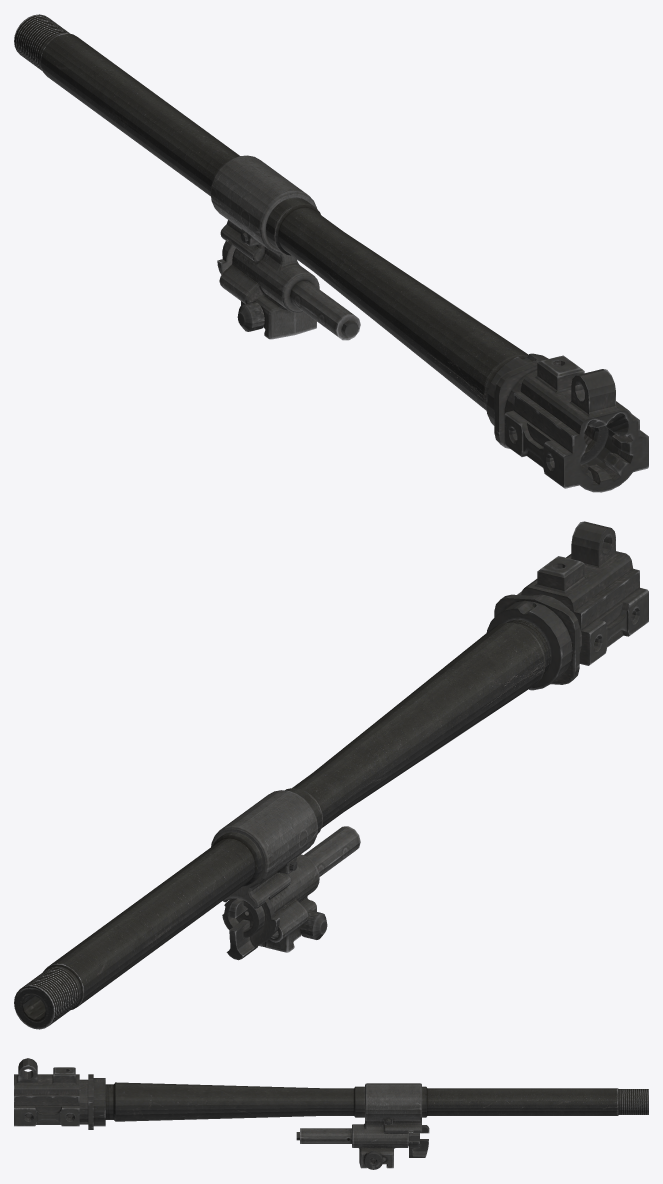
The picture shows the model from 3 angles, top to bottom: view 1: azimuth 30°, elevation 25°; view 2: azimuth 150°, elevation 25°; view 3: azimuth 270°, elevation 25°; orthographic projection. The views are drawn at different scales.
Visible parts, largest first — view 1: TW_6183b0711cb55961fa0fdcad_PZ_Import; view 2: TW_6183b0711cb55961fa0fdcad_PZ_Import; view 3: TW_6183b0711cb55961fa0fdcad_PZ_Import.
Boxes of the visible parts, x1,y1,x2,y2 form: TW_6183b0711cb55961fa0fdcad_PZ_Import: (14,14,648,492); TW_6183b0711cb55961fa0fdcad_PZ_Import: (14,521,648,1029); TW_6183b0711cb55961fa0fdcad_PZ_Import: (14,1058,648,1169).
Size of the model in its own units: 0.0187 by 0.2173 by 0.0378.
Materials: 1 (1 with a texture image).
